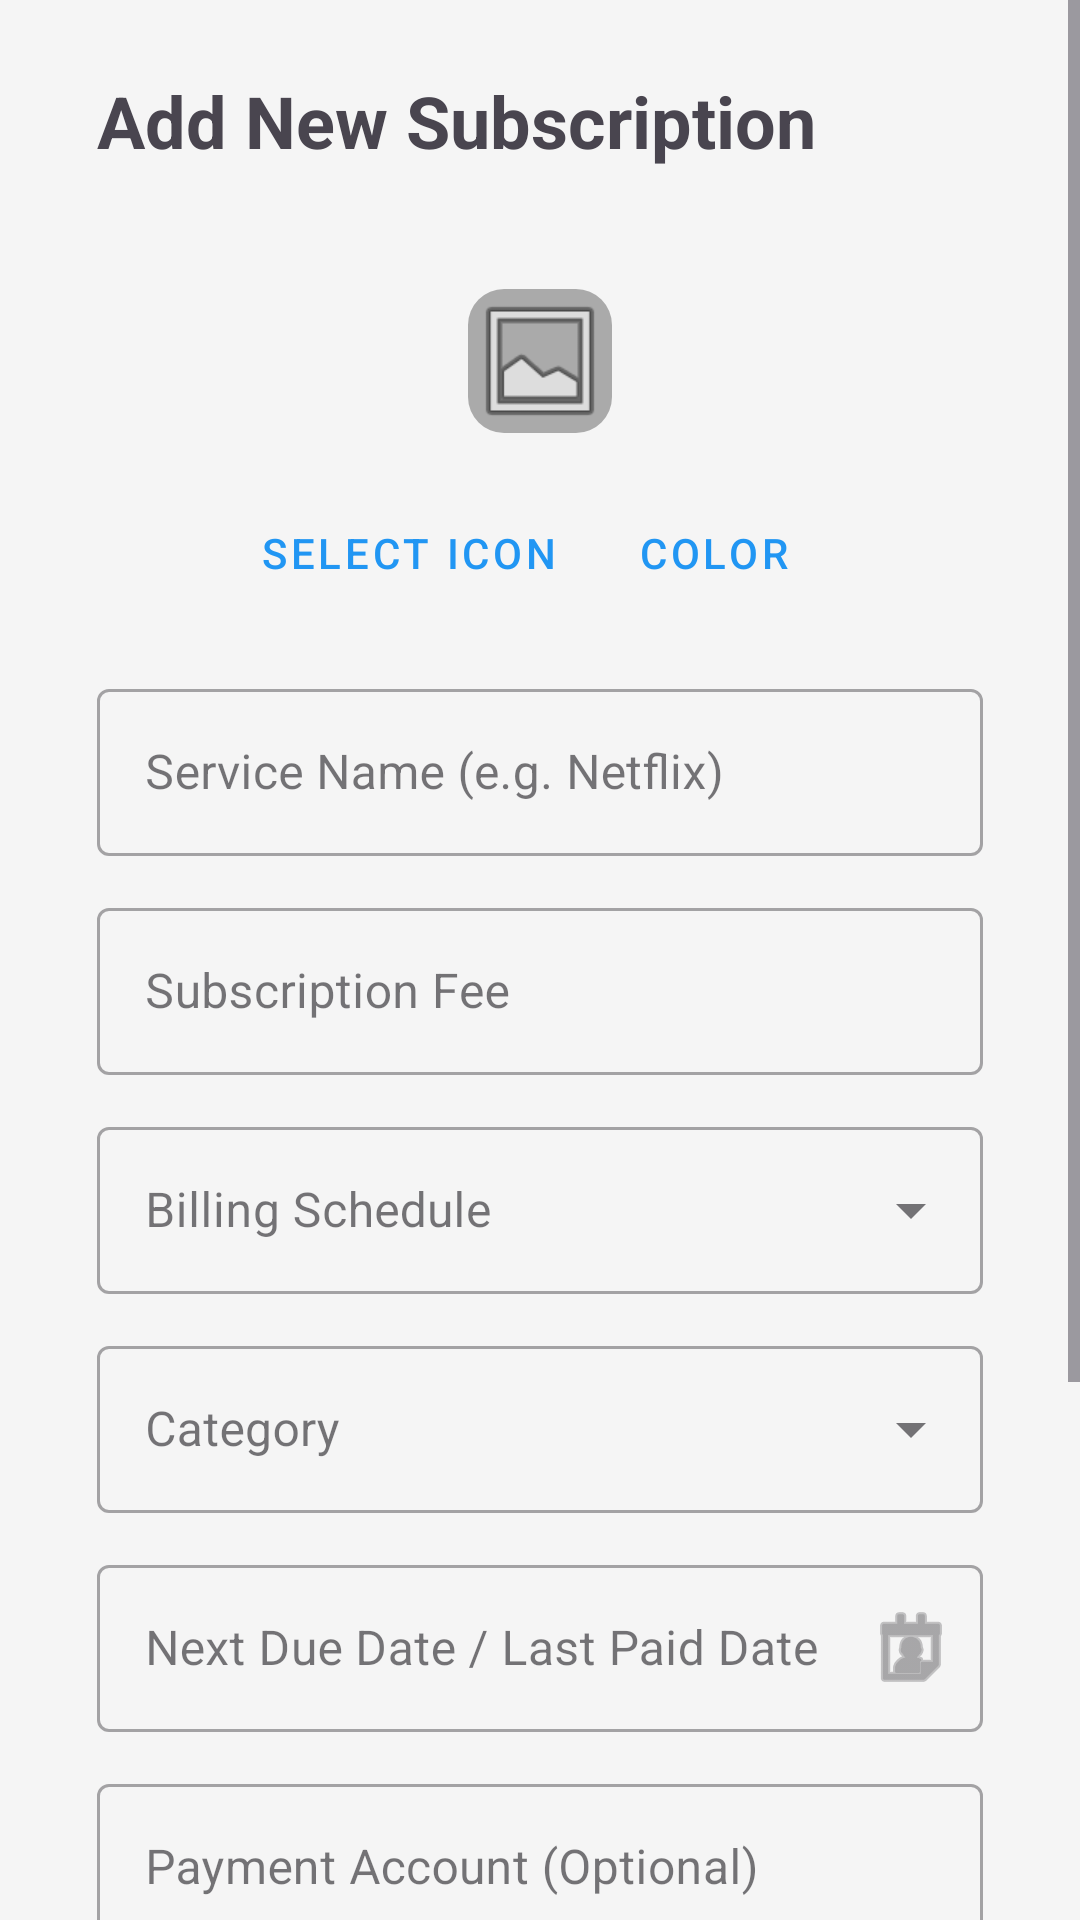

Where icons sit on this 1080px x 1920px app screen, as [x1, y1, x2, y2]:
gallery: [468, 289, 612, 433]
